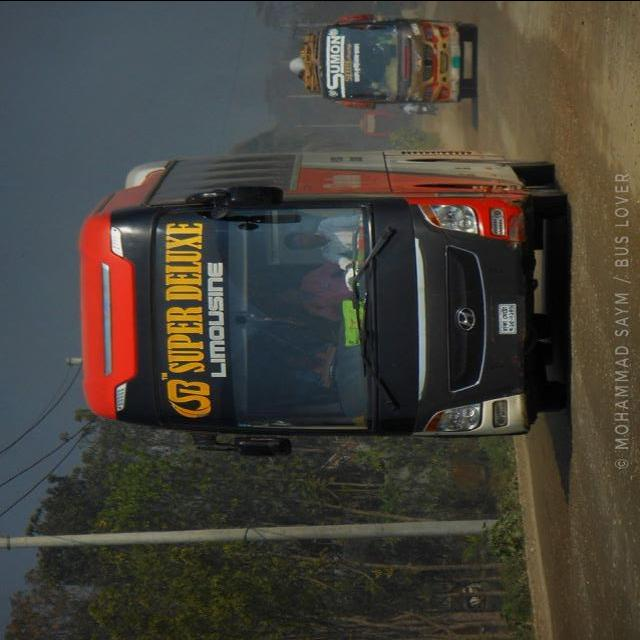bus: (80, 152, 569, 459), (320, 13, 479, 108)
